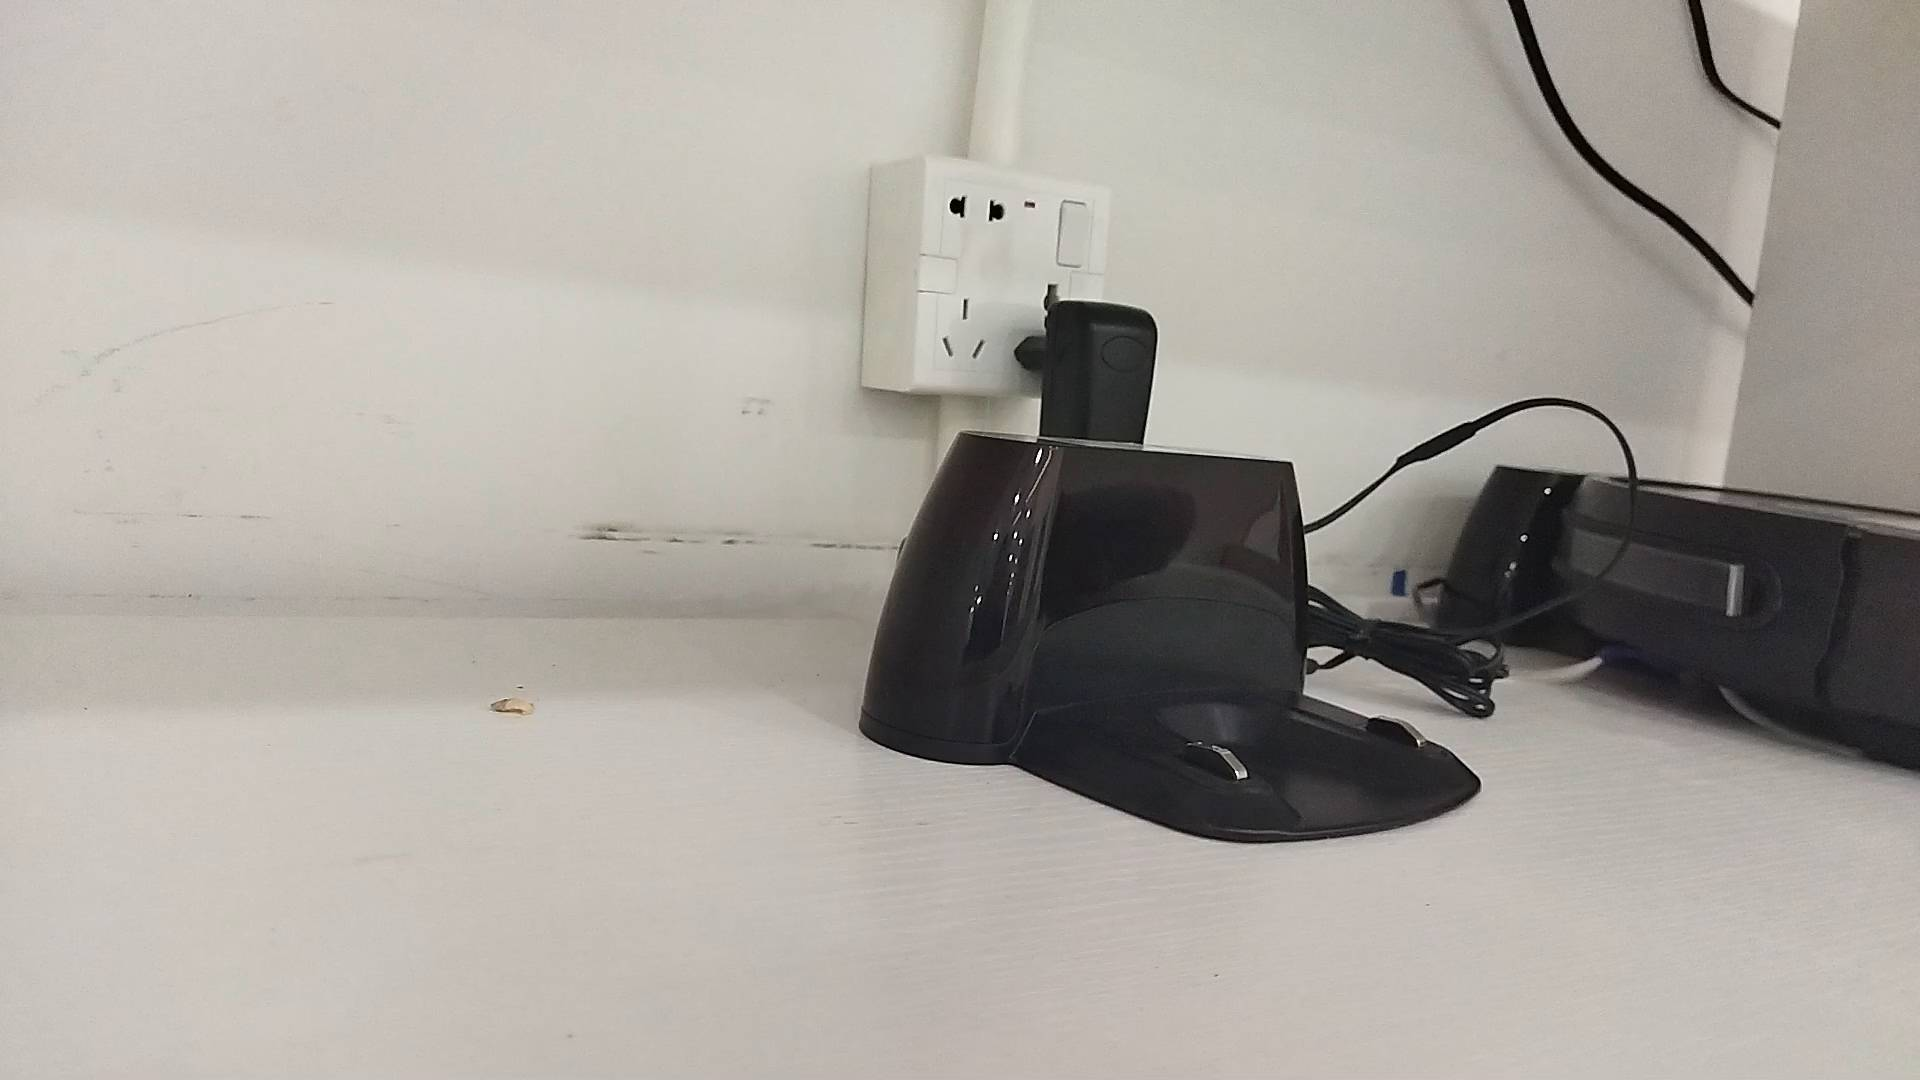recharge seat: (857, 431, 1481, 847)
